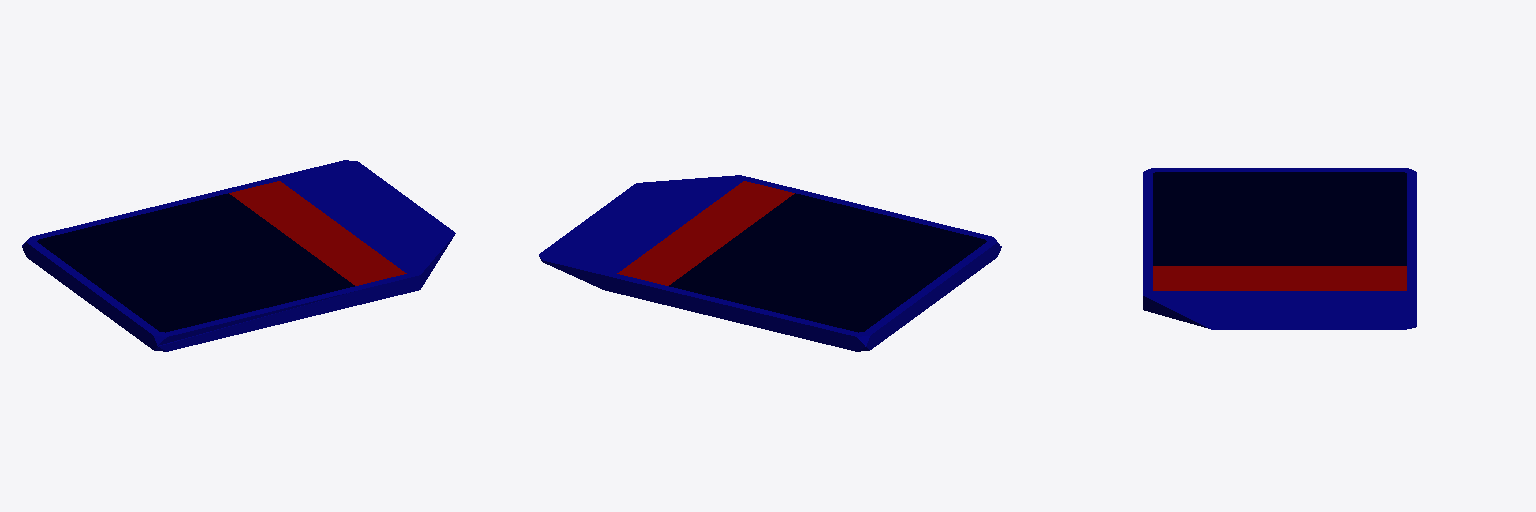
File: SD_CARD.obj
The picture shows the model from 3 angles: view 1: azimuth 30°, elevation 25°; view 2: azimuth 150°, elevation 25°; view 3: azimuth 270°, elevation 25°; orthographic projection.
Parts seen in each view (by area): view 1: Object024, Box032, Object022; view 2: Object024, Box032, Object022; view 3: Object024, Box032, Object022.
Part boxes in pixels (left/top/right/bottom): Object024: left=37, top=193, right=354, bottom=332; Box032: left=22, top=160, right=455, bottom=351; Object022: left=229, top=181, right=406, bottom=285; Object024: left=669, top=193, right=986, bottom=332; Box032: left=539, top=175, right=1001, bottom=351; Object022: left=617, top=181, right=794, bottom=285; Object024: left=1153, top=172, right=1406, bottom=265; Box032: left=1143, top=168, right=1416, bottom=329; Object022: left=1153, top=266, right=1406, bottom=290.
Size of the model in its own units: 3.13 by 0.134 by 2.23.